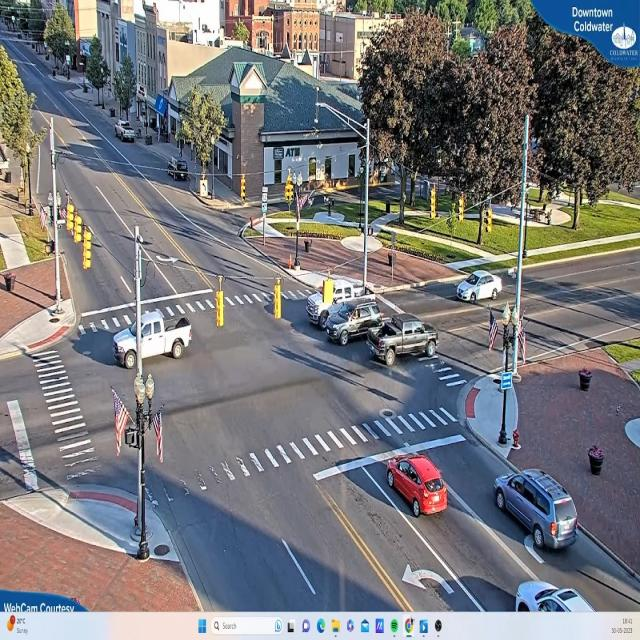car: (494, 468, 582, 554), (114, 302, 191, 370), (386, 455, 449, 518), (367, 314, 437, 363), (511, 586, 613, 612), (326, 302, 384, 346), (307, 277, 374, 311), (453, 270, 500, 304), (115, 122, 136, 142)
